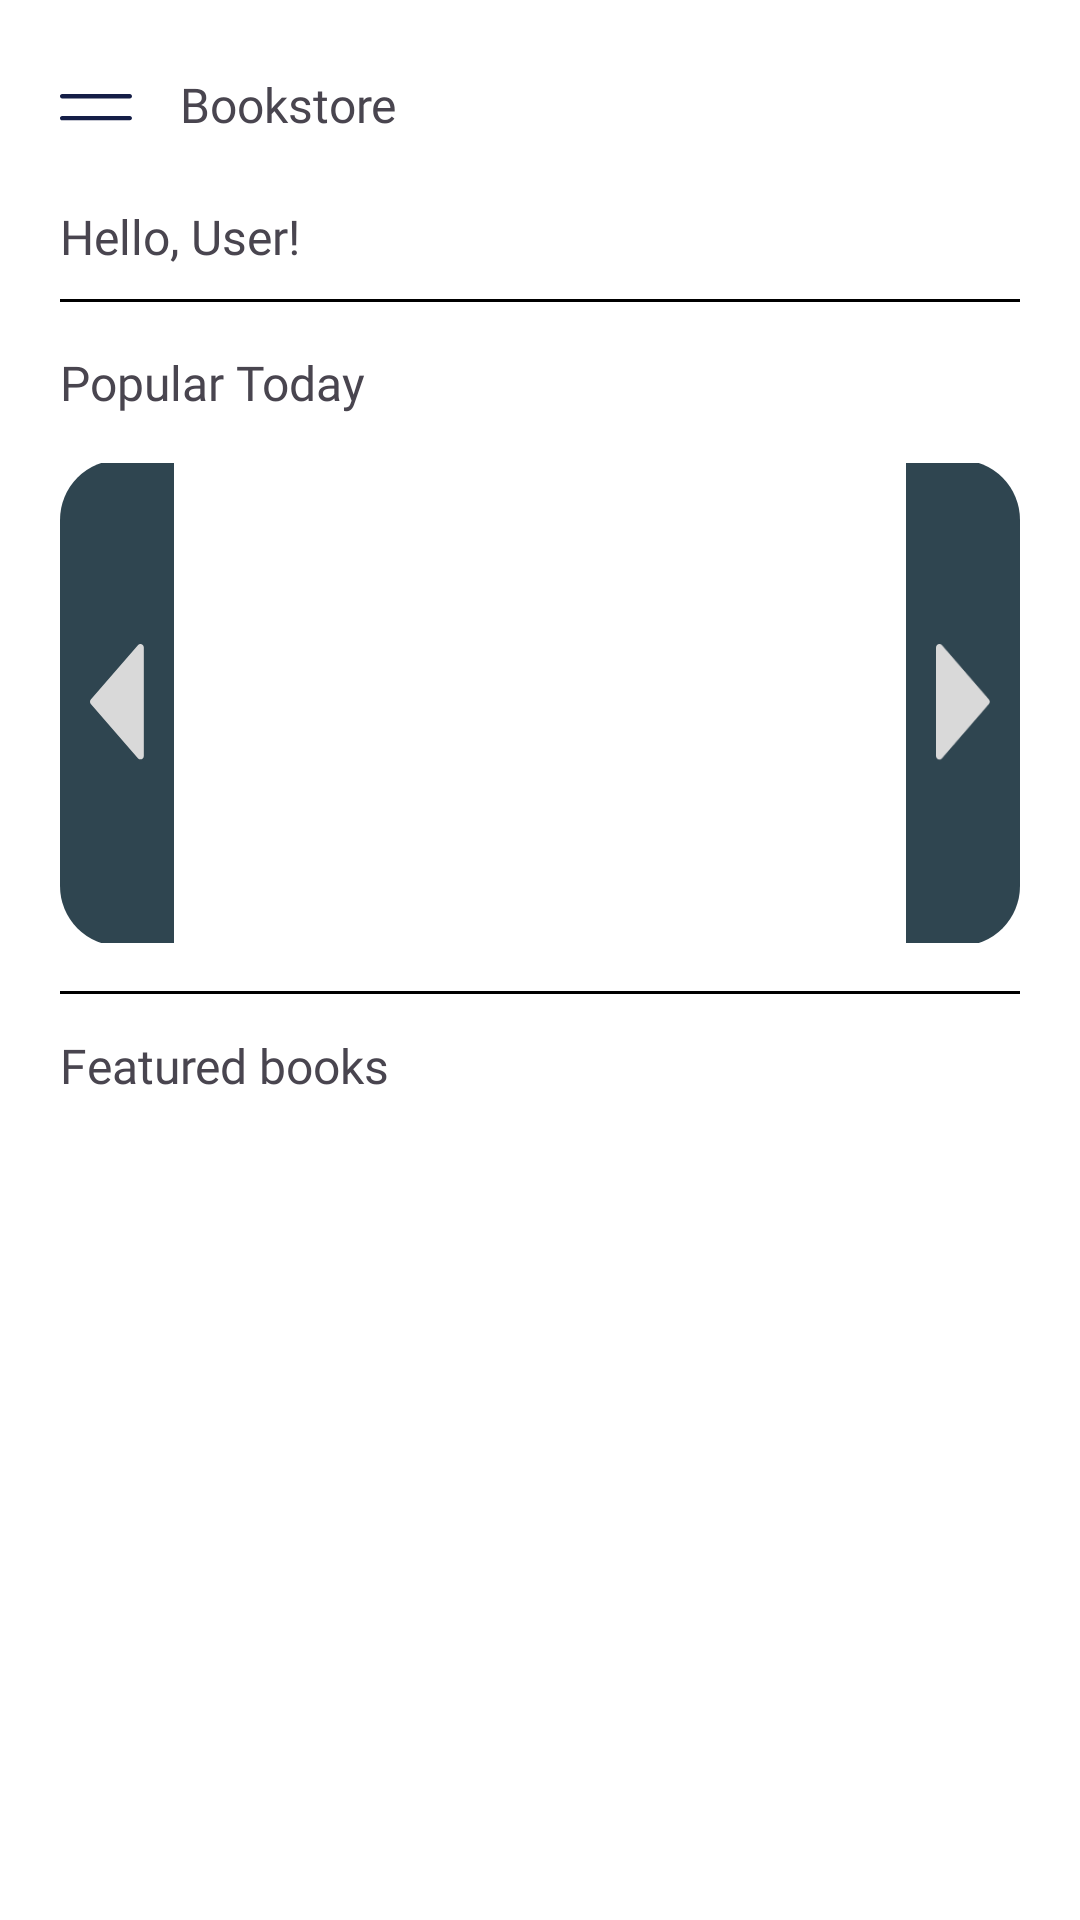

Screen size 1080px x 1920px. Icon name, then its box in pixels as (x1, y1, x2, y2):
menu: (60, 94, 132, 121)
